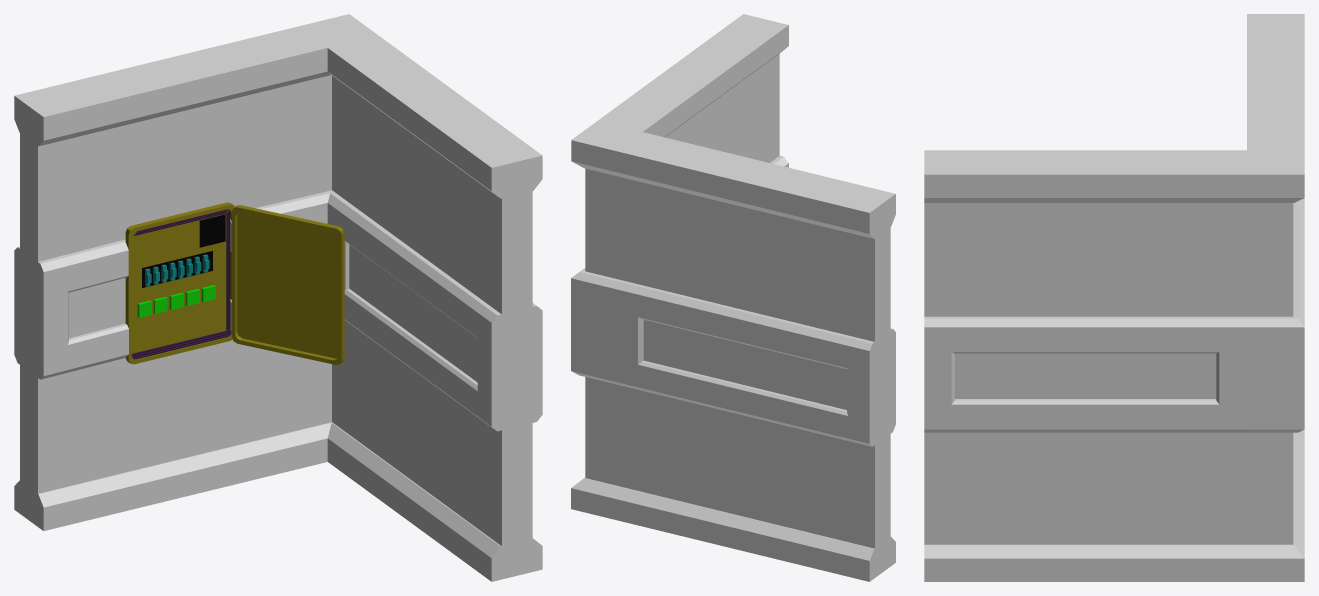
File: CouloirAvecDisjoncteur.fbx
3 renders of one model, left to right at view 1: azimuth 30°, elevation 25°; view 2: azimuth 150°, elevation 25°; view 3: azimuth 270°, elevation 25°, orthographic. The views are drawn at different scales.
Parts seen in each view (by area): view 1: Cube, group2_pasted__pCube66; view 2: Cube; view 3: Cube.
Boxes of the visible parts, x1,y1,x2,y2 form: Cube: (14,14,542,581); group2_pasted__pCube66: (125,202,344,364); Cube: (571,14,895,581); Cube: (924,14,1304,581).
Size of the model in its own units: 1031 by 1217 by 1031.
